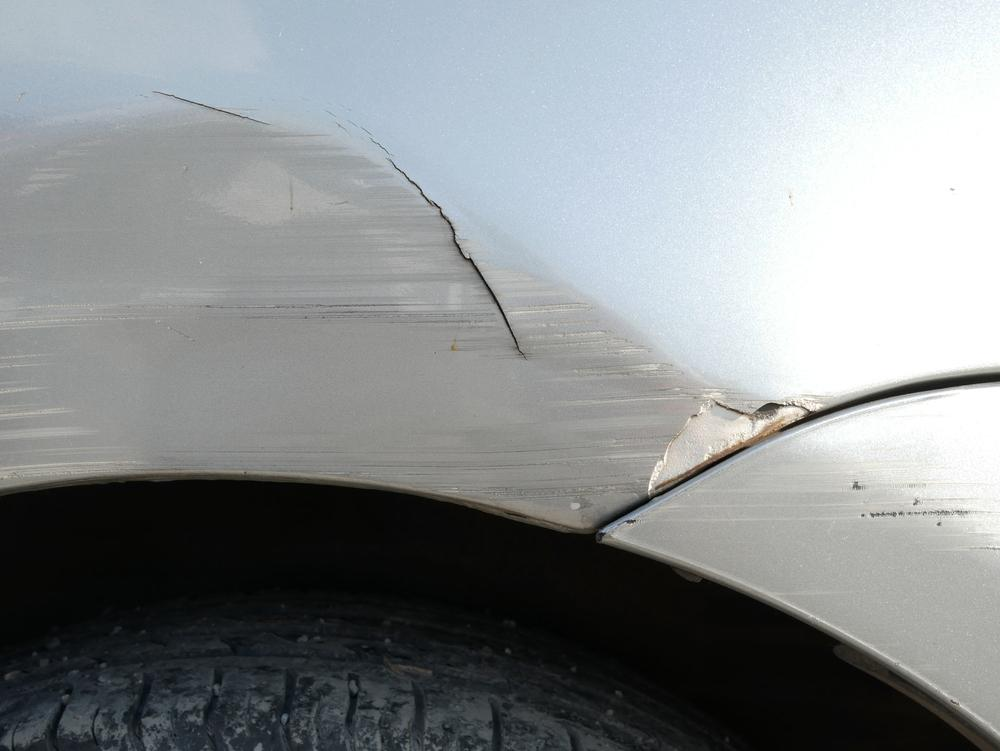crack: (358, 121, 529, 366)
scratch: (0, 101, 826, 532), (611, 426, 1000, 595)
